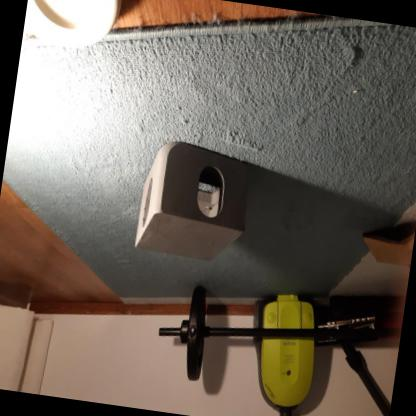CornerCasting: (130, 134, 255, 268)
